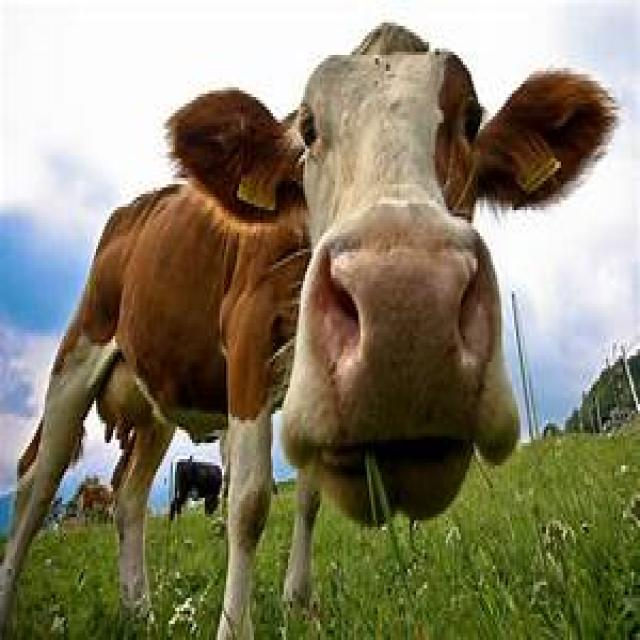animal: (0, 19, 619, 637)
